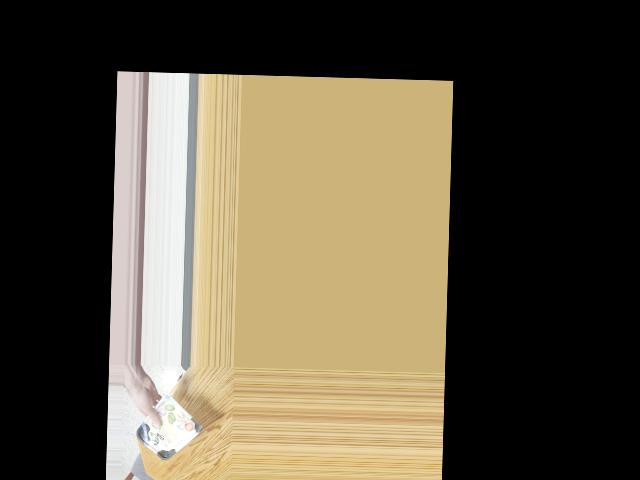cheese: (139, 412, 196, 452)
